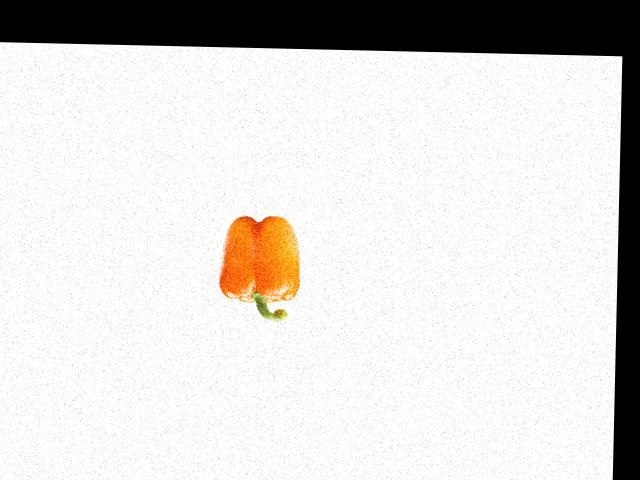bell_pepper: (210, 214, 310, 322)
